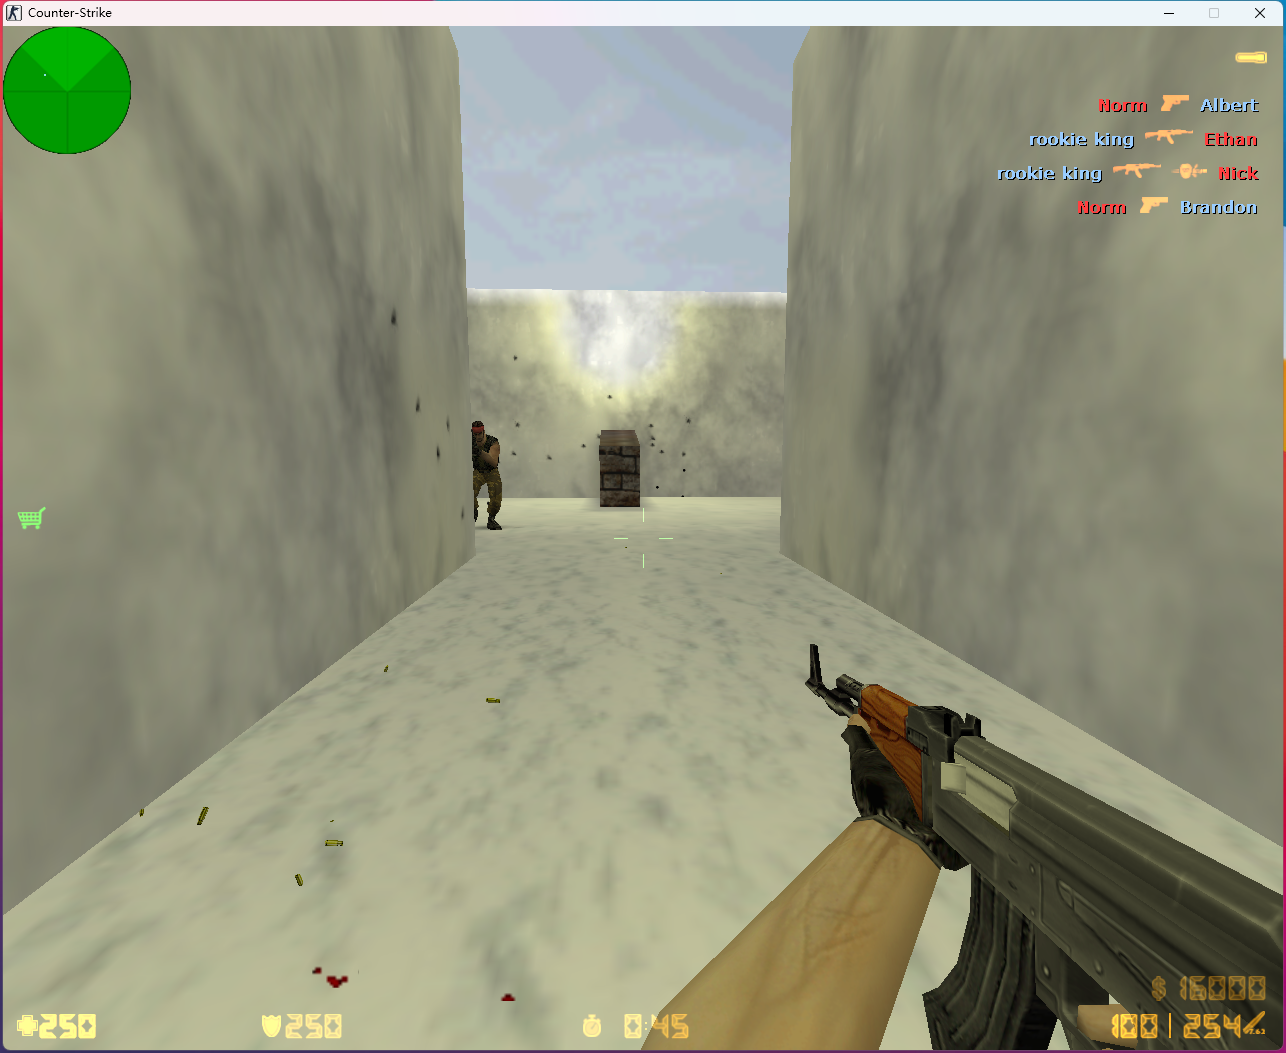T: (469, 417, 503, 532)
